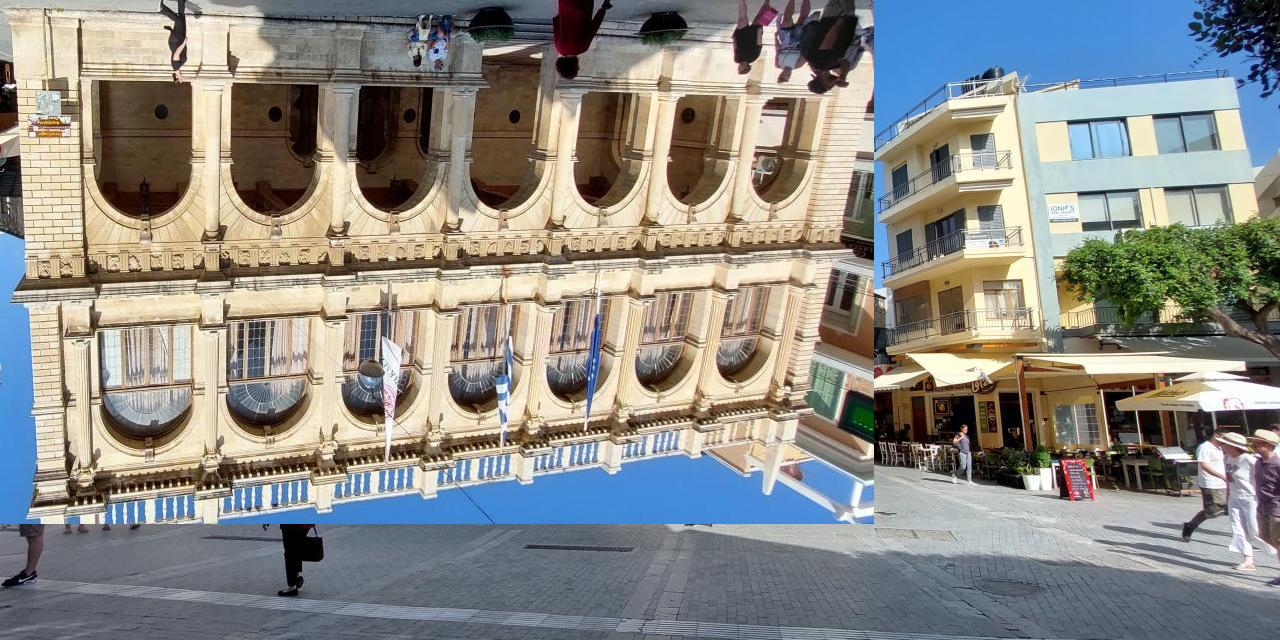Loggia: (1, 1, 875, 525)
